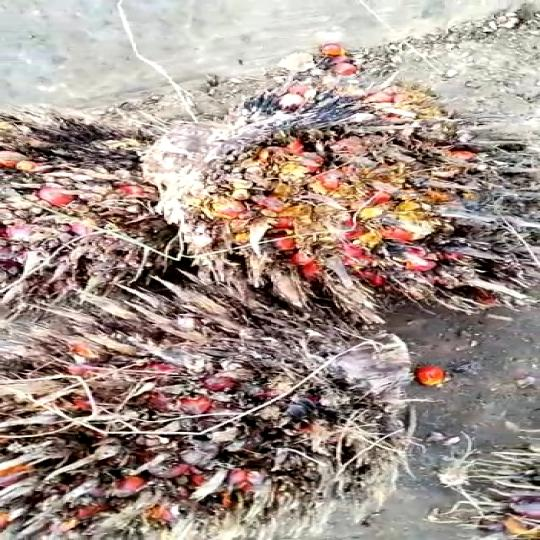terlalu masak: (0, 287, 418, 540), (119, 88, 540, 312)
